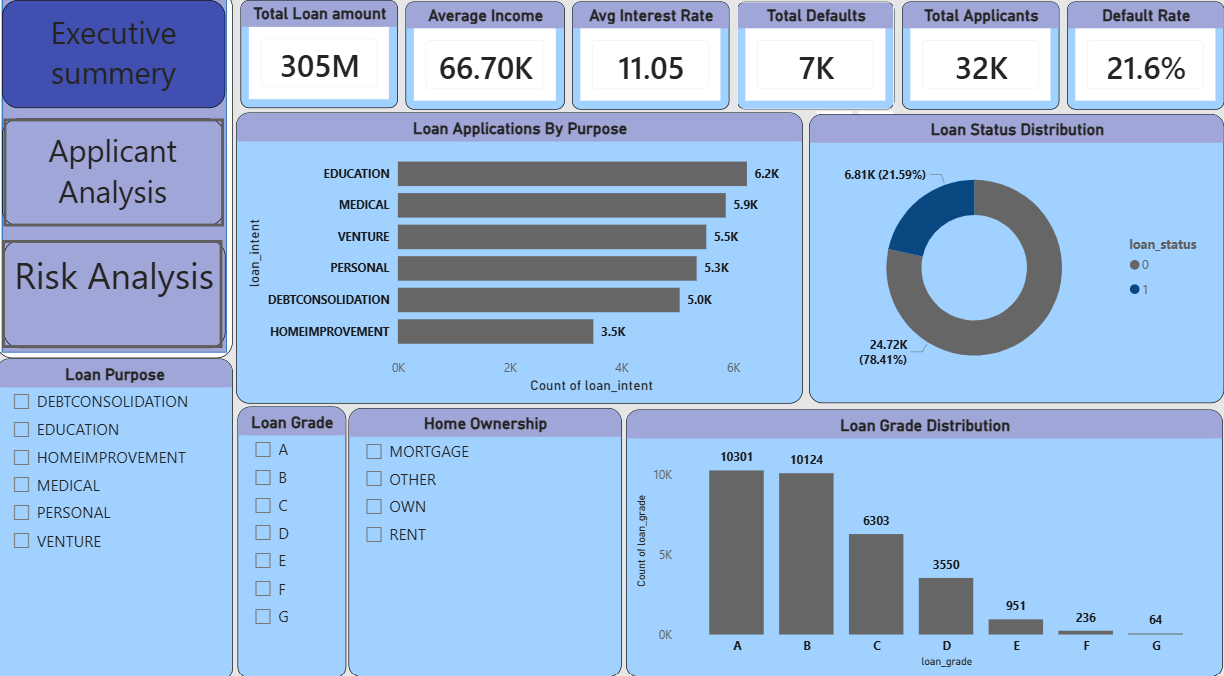

The page's visual inventory and layout, read from the dashboard file:
{"tool":"powerbi","page":{"name":"Executive summery","canvas":[1280,720],"ordinal":0},"visuals":[{"type":"cardVisual","title":"Total Applicants","fields":{"Data":["credit_risk_dataset.Total applicants"]},"box":[944,10.9,164.1,112.5],"z":0},{"type":"cardVisual","title":"Total Loan amount","fields":{"Data":["credit_risk_dataset.Total loan amount"]},"box":[254,10,164.1,112.5],"z":1000},{"type":"cardVisual","title":"Average Income","fields":{"Data":["credit_risk_dataset.Average income"]},"box":[426,10.9,166,112.5],"z":2000},{"type":"cardVisual","title":"Avg Interest Rate","fields":{"Data":["credit_risk_dataset.average intrest rate"]},"box":[600,10.9,164,112.5],"z":3000},{"type":"cardVisual","title":"Total Defaults","fields":{"Data":["credit_risk_dataset.Total defaults"]},"box":[772,10.9,164.1,112.5],"z":4000},{"type":"cardVisual","title":"Default Rate","fields":{"Data":["credit_risk_dataset.Default rate"]},"box":[1116,10.9,164.1,112.5],"z":5000},{"type":"shape","box":[0,0,247,382.9],"z":6000},{"type":"textbox","box":[6.3,9.4,232.9,112.5],"z":7000},{"type":"textbox","box":[6.3,133,231.3,112],"z":8000},{"type":"textbox","box":[7.8,259,231.3,112.5],"z":9000},{"type":"actionButton","box":[7.8,132.9,229.8,112.5],"z":10000},{"type":"actionButton","box":[7,259.5,229.8,112.5],"z":11000},{"type":"clusteredBarChart","title":"Loan Applications By Purpose","fields":{"Category":["credit_risk_dataset.loan_intent"],"Y":["CountNonNull(credit_risk_dataset.loan_intent)"]},"box":[250.1,126.6,590.8,303.2],"z":12000},{"type":"donutChart","title":"Loan Status Distribution","fields":{"Category":["credit_risk_dataset.loan_status"],"Y":["CountNonNull(credit_risk_dataset.loan_status)"]},"box":[847.1,128.2,432.9,301.7],"z":13000},{"type":"clusteredColumnChart","title":"Loan Grade Distribution","fields":{"Category":["credit_risk_dataset.loan_grade"],"Y":["CountNonNull(credit_risk_dataset.loan_grade)"]},"box":[656.5,436.1,622.1,279.8],"z":13001},{"type":"slicer","title":"Loan Purpose","fields":{"Values":["credit_risk_dataset.loan_intent"]},"box":[0,382.9,247,337.6],"z":13002},{"type":"slicer","title":"Loan Grade","fields":{"Values":["credit_risk_dataset.loan_grade"]},"box":[251,432.9,113,284.5],"z":13003},{"type":"slicer","title":"Home Ownership","fields":{"Values":["credit_risk_dataset.person_home_ownership"]},"box":[367.3,435,284.5,281.3],"z":13004}]}

Visuals, with their boxes in screenshot pixels (x1, y1, x2, y2), scaled from the page's 1280x720 canvas onto the 1224x676 screenshot:
"Total Applicants" cardVisual: locate(903, 10, 1060, 116)
"Total Loan amount" cardVisual: locate(243, 9, 400, 115)
"Average Income" cardVisual: locate(407, 10, 566, 116)
"Avg Interest Rate" cardVisual: locate(574, 10, 731, 116)
"Total Defaults" cardVisual: locate(738, 10, 895, 116)
"Default Rate" cardVisual: locate(1067, 10, 1223, 116)
shape: locate(0, 0, 236, 360)
textbox: locate(6, 9, 229, 114)
textbox: locate(6, 125, 227, 230)
textbox: locate(7, 243, 229, 349)
actionButton: locate(7, 125, 227, 230)
actionButton: locate(7, 244, 226, 349)
"Loan Applications By Purpose" clusteredBarChart: locate(239, 119, 804, 404)
"Loan Status Distribution" donutChart: locate(810, 120, 1223, 404)
"Loan Grade Distribution" clusteredColumnChart: locate(628, 409, 1223, 672)
"Loan Purpose" slicer: locate(0, 360, 236, 675)
"Loan Grade" slicer: locate(240, 406, 348, 674)
"Home Ownership" slicer: locate(351, 408, 623, 673)
